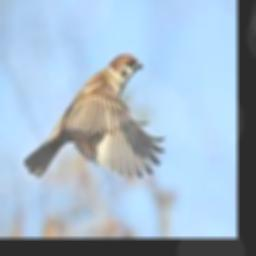Sparrow: (24, 53, 165, 179)
